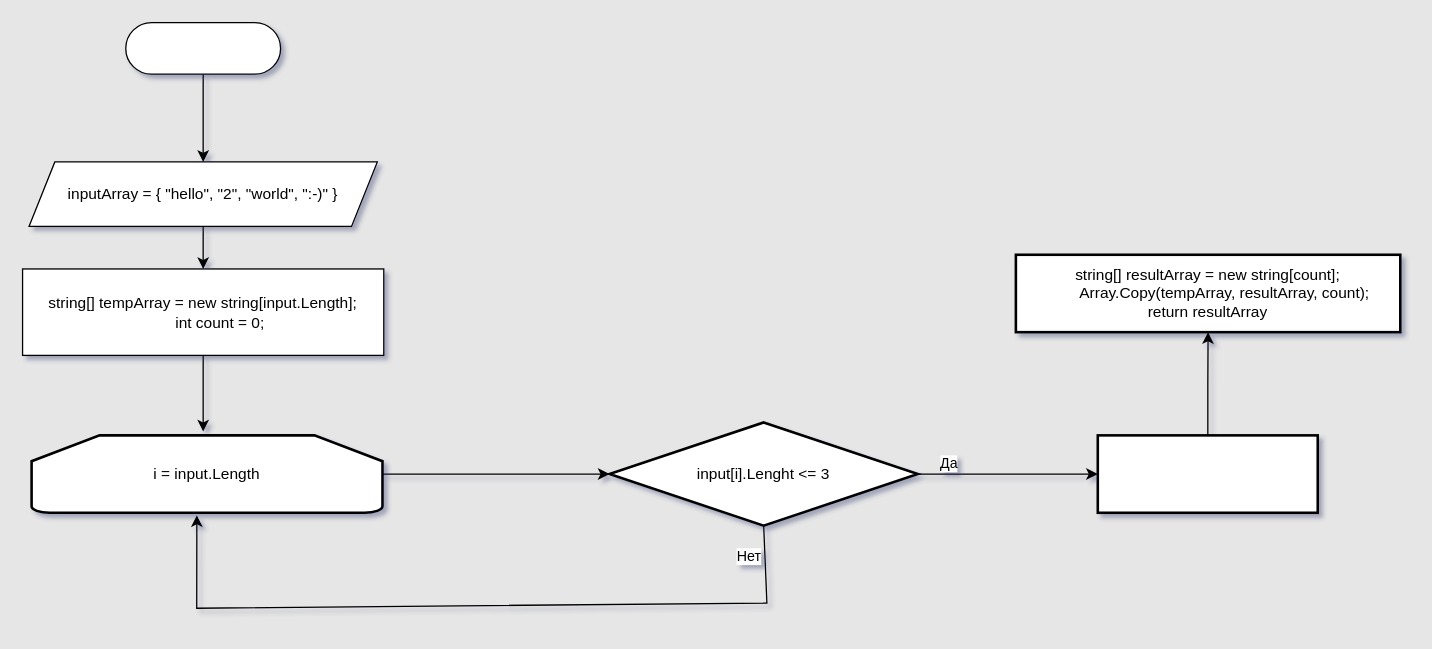
Some shapes in this 1432 by 649 pixel diagram are drawn without their labels. The shapes that lost their labels are listed below. From the top down, each one's centre as x and y in pixels, then its label:
At pixel 202 47: "Start".
At pixel 1207 473: "tempArray[count] = input[i] count = count + 1".
